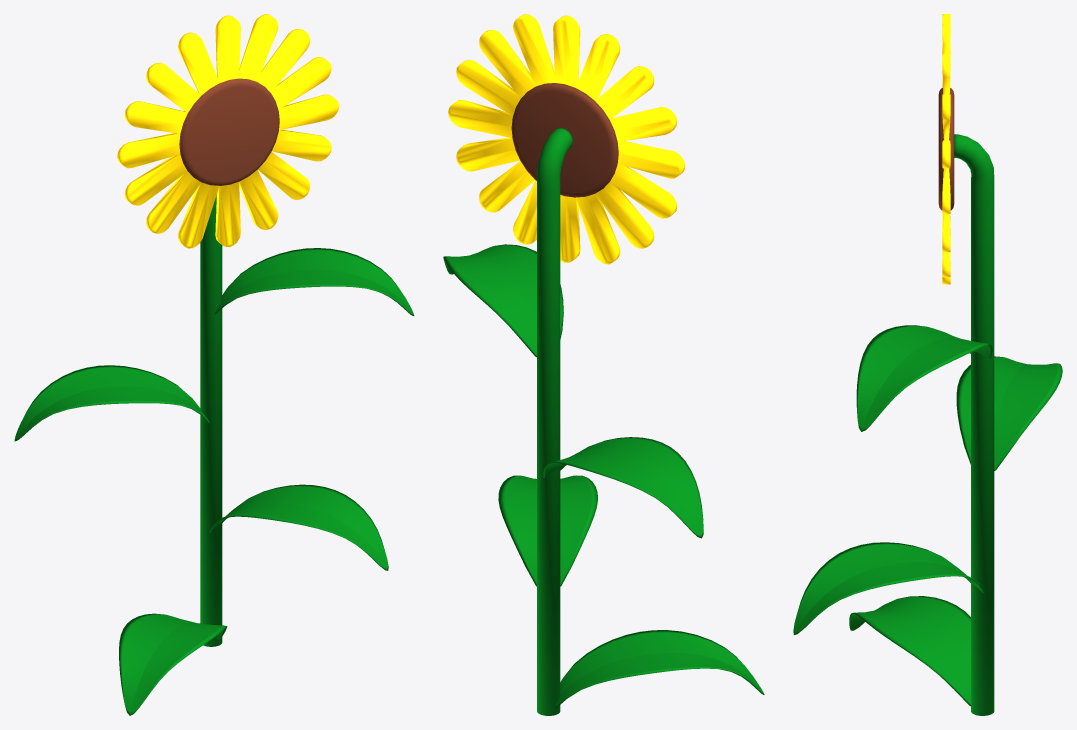
File: SunFlower2.fbx
3 renders of one model, left to right at view 1: azimuth 30°, elevation 25°; view 2: azimuth 150°, elevation 25°; view 3: azimuth 270°, elevation 25°, orthographic. The views are drawn at different scales.
Visible parts, largest first — view 1: SunFlower2; view 2: SunFlower2; view 3: SunFlower2.
Boxes of the visible parts, <box> form: SunFlower2: <box>14,14,414,715</box>; SunFlower2: <box>443,14,764,715</box>; SunFlower2: <box>793,14,1062,715</box>.
Bounding box in the file's own units: 2.04 × 1.39 × 3.92.
